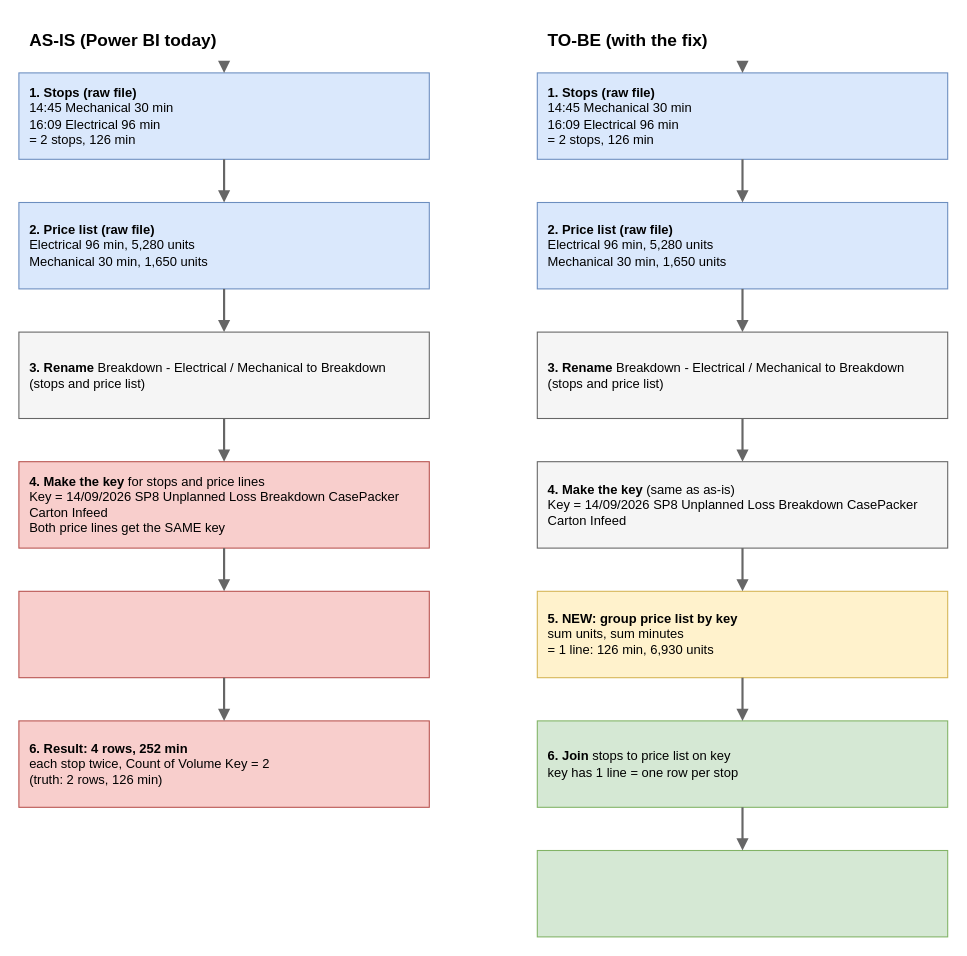
The diagram is 967 pixels wide and 956 high, and some of its shapes have lost their labels. Each missing label, with the centre of its shape:
5. Join stops to price list on key every match = one row, key has 2 lines: the point at 223,634
7. Result: 2 rows, 126 min Count of Volume Key = 1 = truth: the point at 742,893
